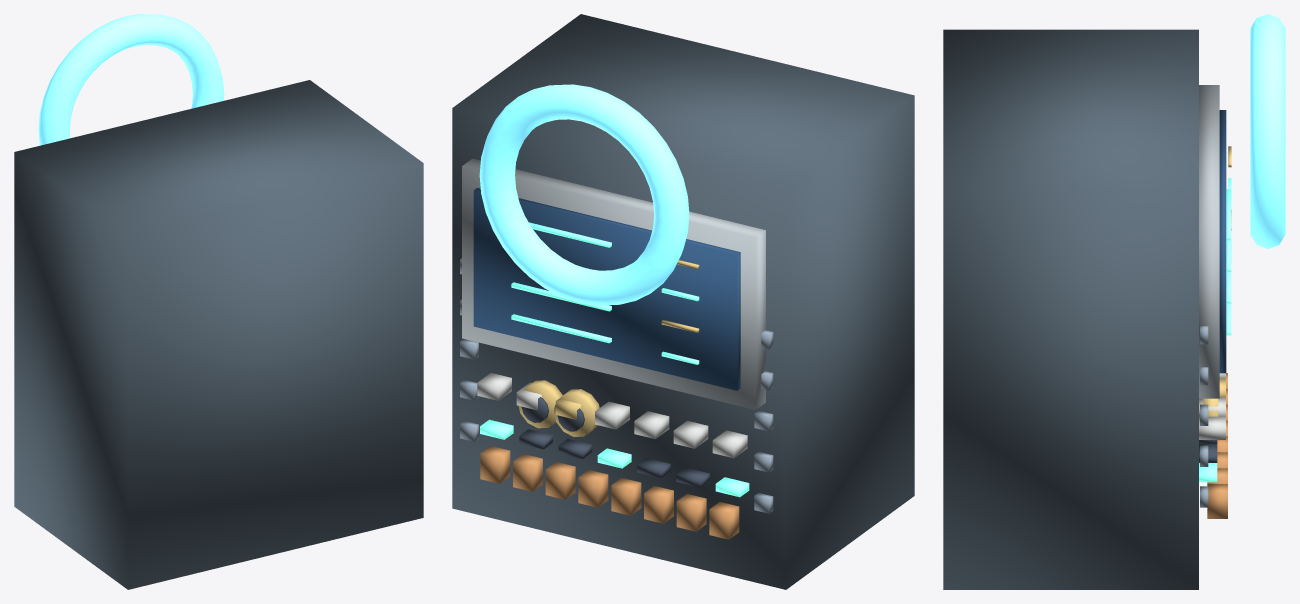
File: L84_31_OrbitalMagneticFieldEmulator_Fitted.fbx
3 views of the same model, side by side, from view 1: azimuth 30°, elevation 25°; view 2: azimuth 150°, elevation 25°; view 3: azimuth 270°, elevation 25° (orthographic). The views are drawn at different scales.
Visible parts, largest first — view 1: L84_OrbitalMagneticFieldEmulator_Static__tint1C2933, L84_OrbitalMagneticFieldEmulator_Static__tint38CCFC; view 2: L84_OrbitalMagneticFieldEmulator_Static__tint1C2933, L84_OrbitalMagneticFieldEmulator_Static__tint0B214A, L84_OrbitalMagneticFieldEmulator_Static__tint38CCFC, L84_OrbitalMagneticFieldEmulator_Static__tint91A3AD, L84_OrbitalMagneticFieldEmulator_Static__tintCC6629, L84_OrbitalMagneticFieldEmulator_Static__tintCCD4CF, L84_OrbitalMagneticFieldEmulator_Static__tint2BF0A8, L84_OrbitalMagneticFieldEmulator_Static__tint131B26, L84_OrbitalMagneticFieldEmulator_Static__tint59738F, L84_OrbitalMagneticFieldEmulator_Static__tintF2B547; view 3: L84_OrbitalMagneticFieldEmulator_Static__tint1C2933, L84_OrbitalMagneticFieldEmulator_Static__tint38CCFC, L84_OrbitalMagneticFieldEmulator_Static__tint91A3AD, L84_OrbitalMagneticFieldEmulator_Static__tint0B214A, L84_OrbitalMagneticFieldEmulator_Static__tintCC6629, L84_OrbitalMagneticFieldEmulator_Static__tint2BF0A8, L84_OrbitalMagneticFieldEmulator_Static__tint59738F, L84_OrbitalMagneticFieldEmulator_Static__tintCCD4CF, L84_OrbitalMagneticFieldEmulator_Static__tintF2B547.
Part boxes in pixels (left/top/right/bottom): L84_OrbitalMagneticFieldEmulator_Static__tint1C2933: left=14, top=80, right=423, bottom=589; L84_OrbitalMagneticFieldEmulator_Static__tint38CCFC: left=38, top=14, right=224, bottom=145; L84_OrbitalMagneticFieldEmulator_Static__tint1C2933: left=452, top=14, right=914, bottom=589; L84_OrbitalMagneticFieldEmulator_Static__tint0B214A: left=473, top=188, right=740, bottom=390; L84_OrbitalMagneticFieldEmulator_Static__tint38CCFC: left=479, top=84, right=689, bottom=305; L84_OrbitalMagneticFieldEmulator_Static__tint91A3AD: left=462, top=158, right=765, bottom=409; L84_OrbitalMagneticFieldEmulator_Static__tintCC6629: left=480, top=446, right=739, bottom=539; L84_OrbitalMagneticFieldEmulator_Static__tintCCD4CF: left=477, top=373, right=747, bottom=458; L84_OrbitalMagneticFieldEmulator_Static__tint2BF0A8: left=480, top=222, right=749, bottom=497; L84_OrbitalMagneticFieldEmulator_Static__tint131B26: left=519, top=397, right=709, bottom=487; L84_OrbitalMagneticFieldEmulator_Static__tint59738F: left=460, top=258, right=773, bottom=513; L84_OrbitalMagneticFieldEmulator_Static__tintF2B547: left=518, top=260, right=699, bottom=436; L84_OrbitalMagneticFieldEmulator_Static__tint1C2933: left=943, top=29, right=1198, bottom=589; L84_OrbitalMagneticFieldEmulator_Static__tint38CCFC: left=1250, top=14, right=1285, bottom=248; L84_OrbitalMagneticFieldEmulator_Static__tint91A3AD: left=1199, top=85, right=1219, bottom=398; L84_OrbitalMagneticFieldEmulator_Static__tint0B214A: left=1219, top=110, right=1226, bottom=373; L84_OrbitalMagneticFieldEmulator_Static__tintCC6629: left=1207, top=373, right=1227, bottom=518; L84_OrbitalMagneticFieldEmulator_Static__tint2BF0A8: left=1199, top=178, right=1231, bottom=482; L84_OrbitalMagneticFieldEmulator_Static__tint59738F: left=1200, top=326, right=1208, bottom=507; L84_OrbitalMagneticFieldEmulator_Static__tintCCD4CF: left=1199, top=373, right=1225, bottom=439; L84_OrbitalMagneticFieldEmulator_Static__tintF2B547: left=1203, top=146, right=1231, bottom=416.
Bounding box in the file's own units: 10.28 × 14.34 × 9.18.
